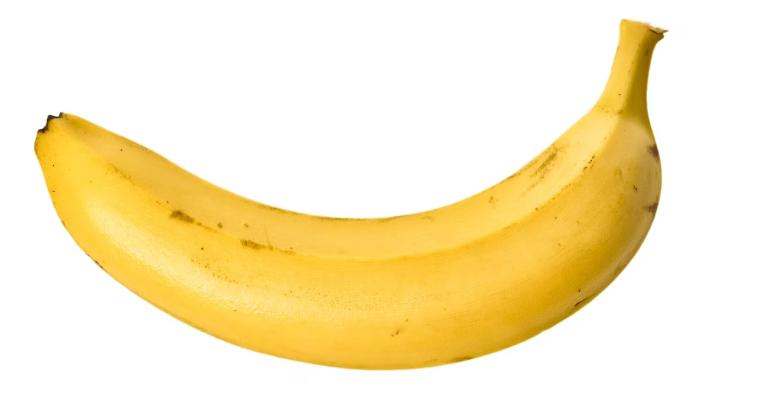banana: (21, 13, 682, 385)
